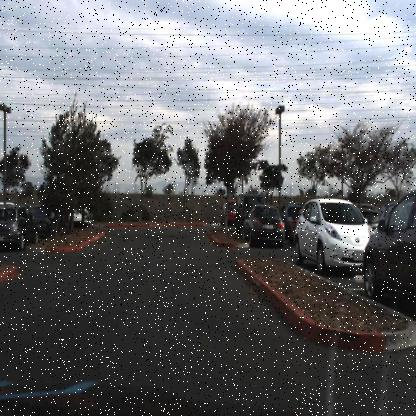car: (362, 186, 415, 316), (292, 195, 374, 276), (240, 202, 288, 247), (0, 204, 41, 253), (236, 191, 264, 231), (27, 203, 58, 239), (218, 198, 236, 227), (67, 208, 90, 224)
